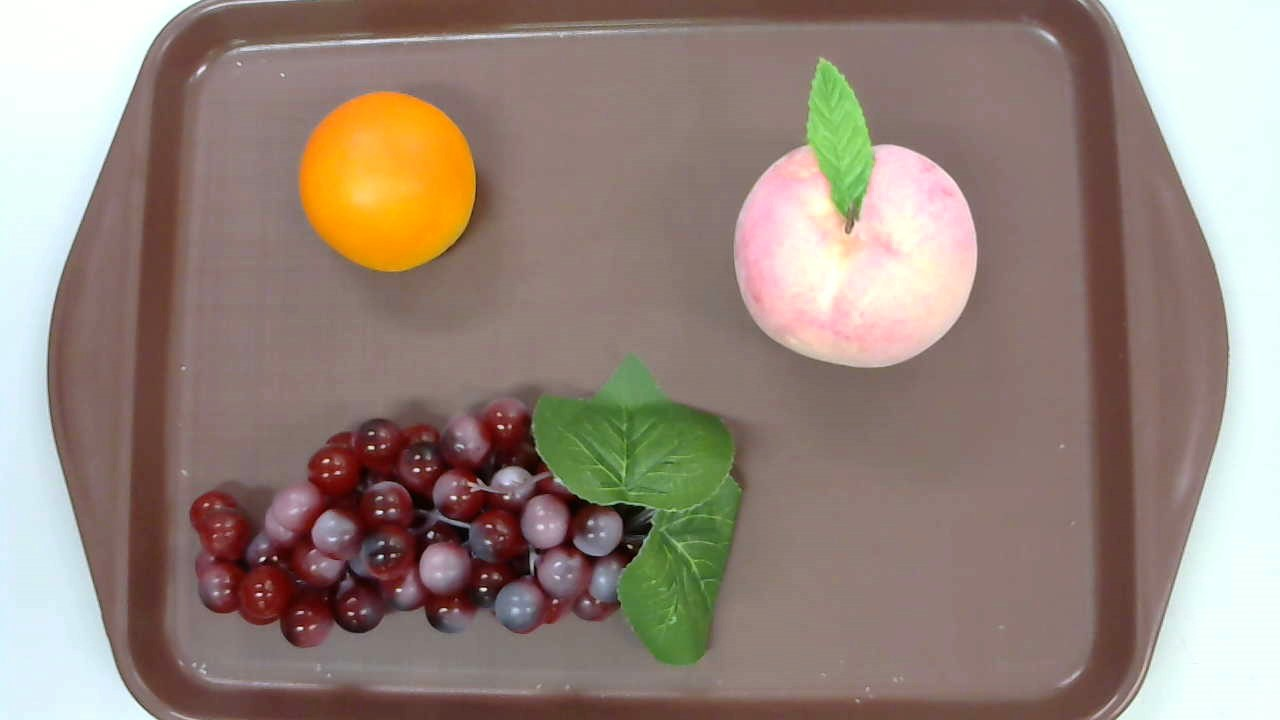bun: (299, 91, 477, 273)
grape: (188, 353, 741, 665)
peach: (734, 56, 977, 369)
